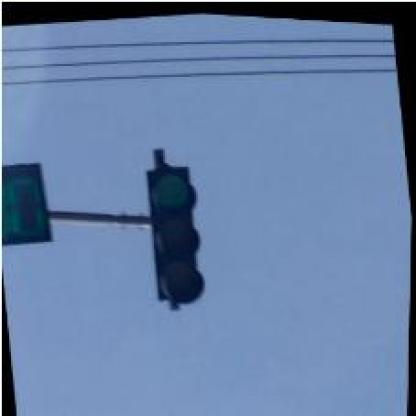green: (140, 158, 212, 304)
